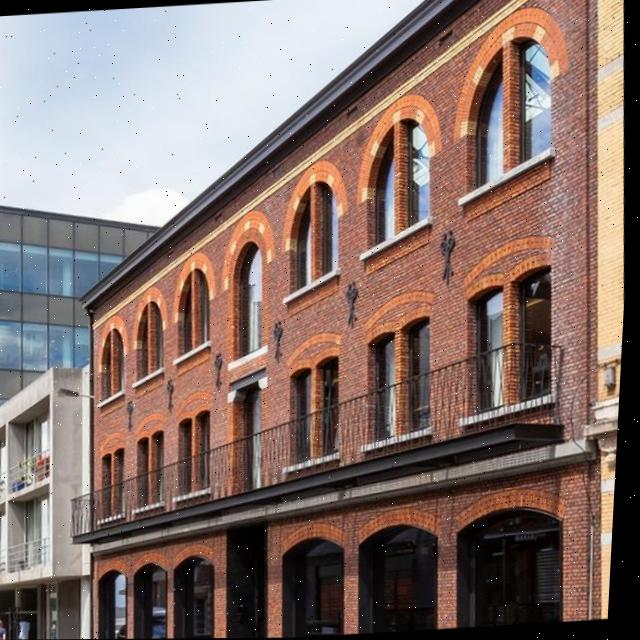building: (55, 0, 636, 639), (0, 183, 179, 411), (0, 359, 106, 640)
